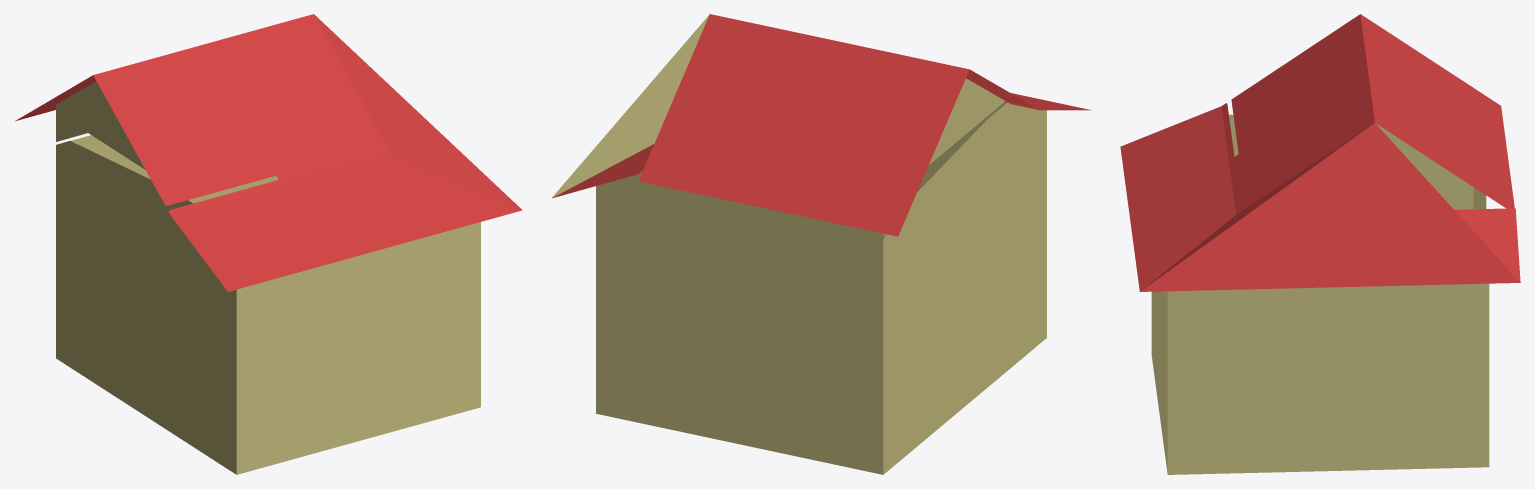
3 renders of one model, left to right at view 1: azimuth 30°, elevation 25°; view 2: azimuth 150°, elevation 25°; view 3: azimuth 270°, elevation 25°, orthographic. The views are drawn at different scales.
Bounding box in the file's own units: 12.37 × 13.54 × 12.06.
